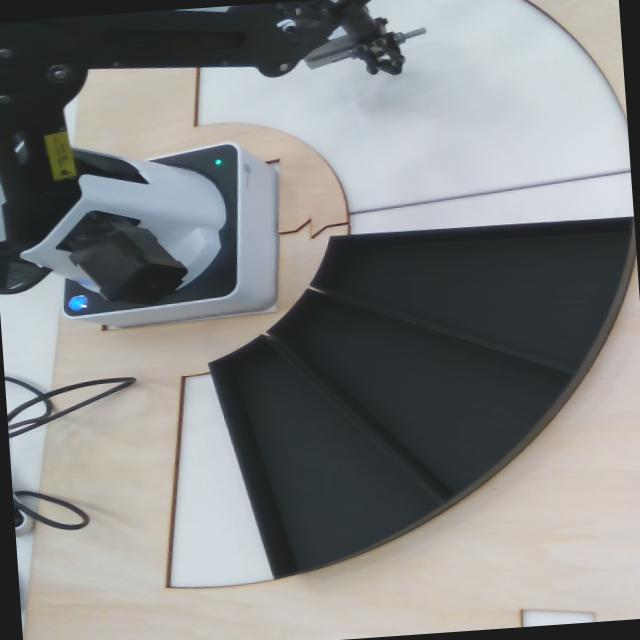box: (228, 271, 585, 531), (181, 294, 454, 586), (306, 142, 630, 375)
